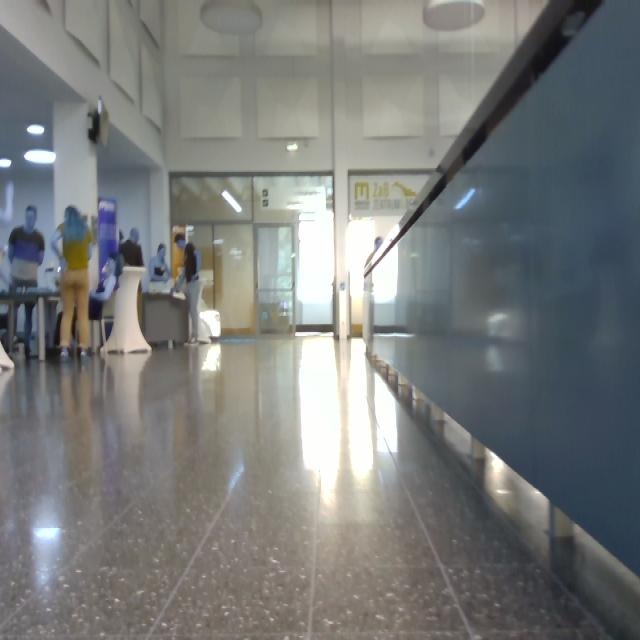door: (215, 226, 256, 336), (259, 226, 295, 334)
light bulb: (202, 1, 264, 35), (424, 4, 486, 31), (455, 189, 476, 210), (222, 194, 244, 214), (25, 151, 57, 164), (35, 528, 61, 540), (27, 124, 46, 136), (287, 143, 299, 152), (1, 159, 10, 169)
person: (52, 206, 95, 362), (10, 208, 46, 294), (150, 244, 172, 283), (25, 304, 34, 359)
pillar: (362, 1, 425, 56)
staircase: (365, 1, 640, 639)
tiled floor: (1, 338, 605, 639)
